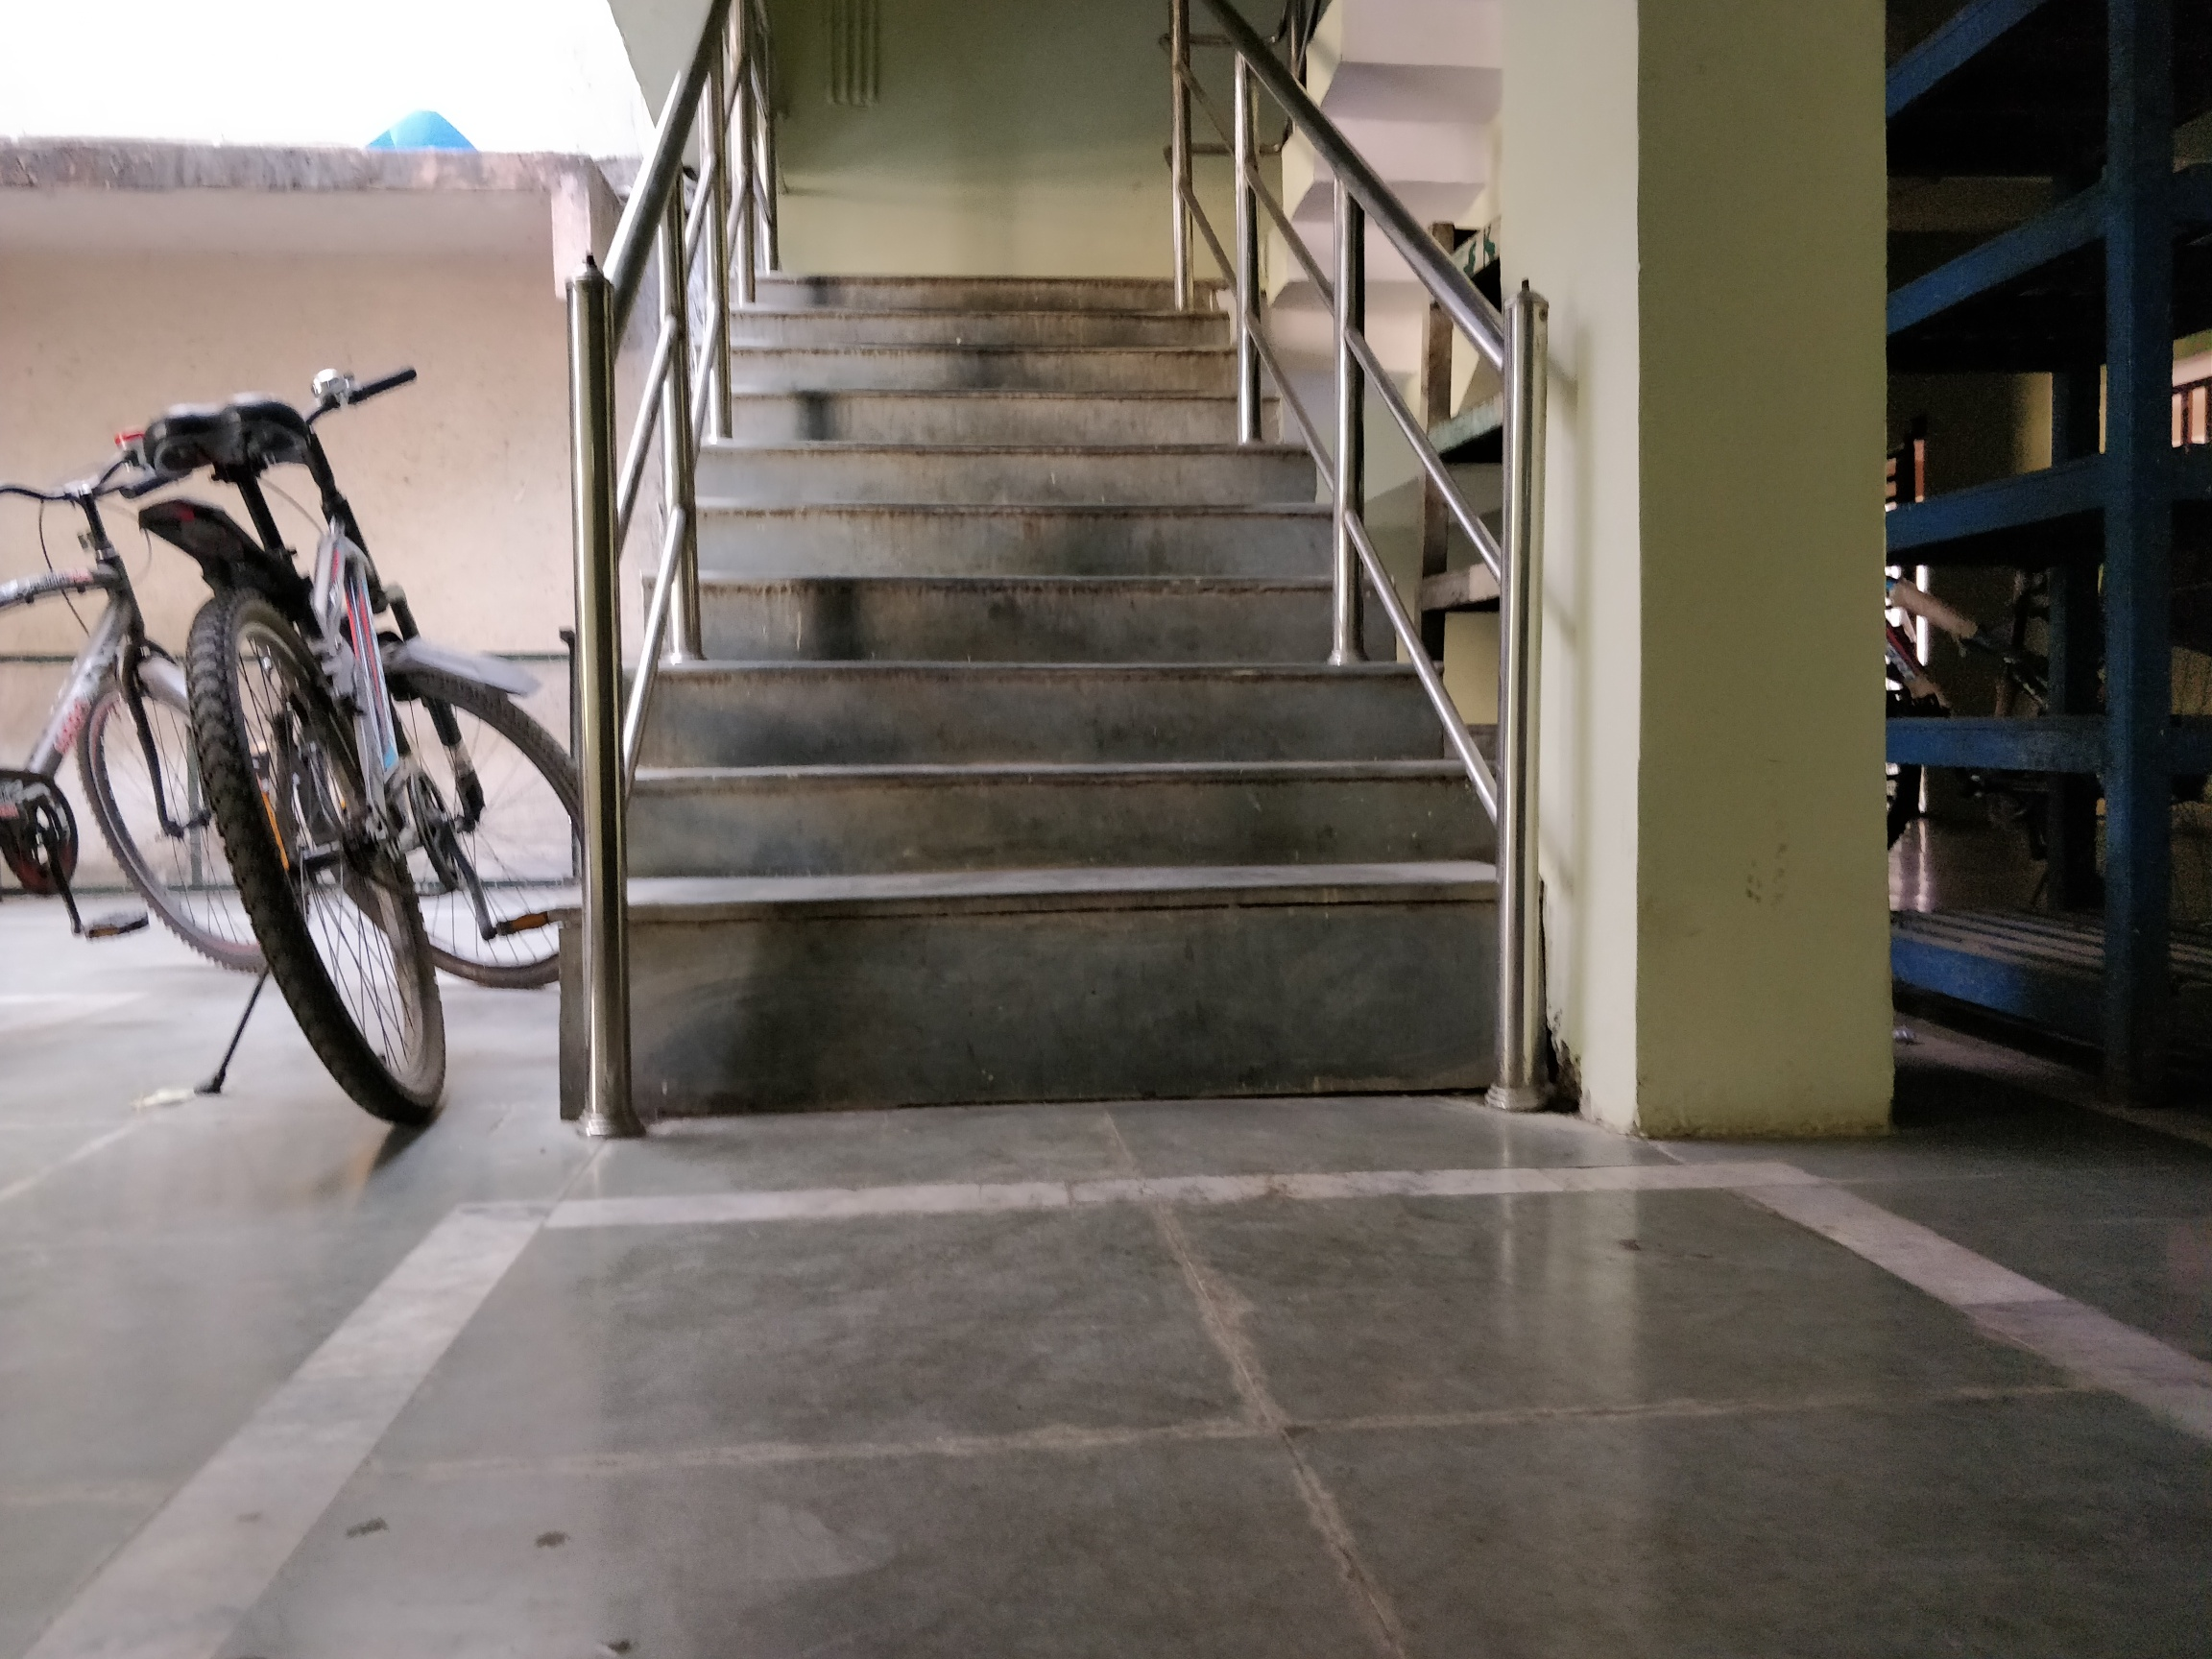stairs_up: (624, 263, 1552, 1136)
